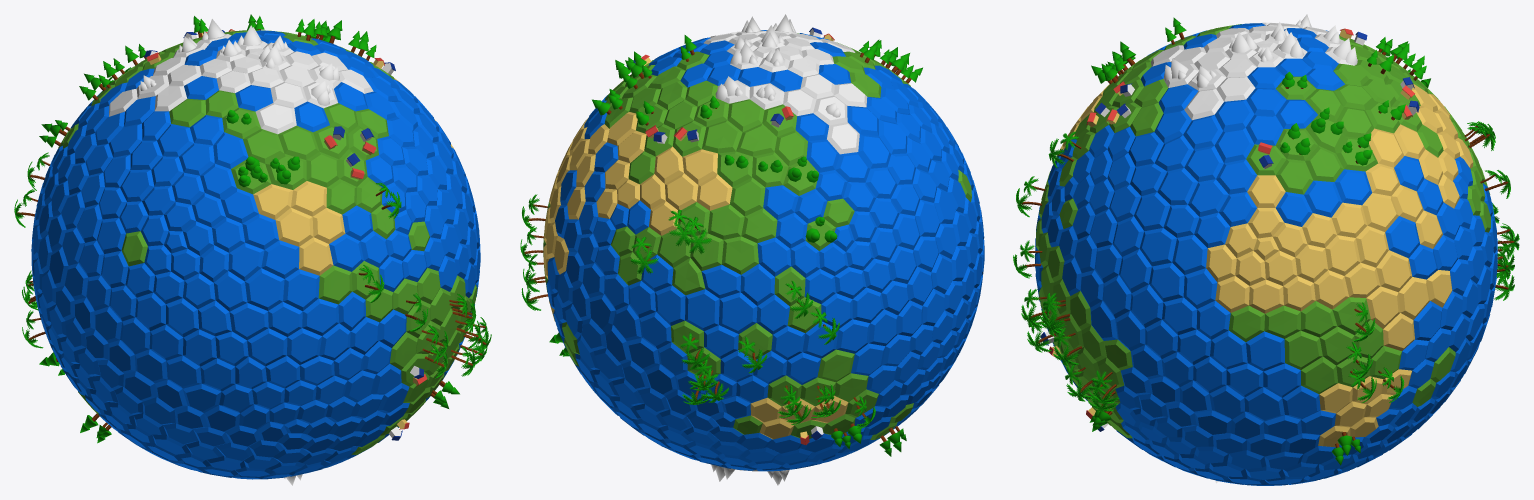
The model's file is hex_earth.fbx.
3 renders of one model, left to right at view 1: azimuth 30°, elevation 25°; view 2: azimuth 150°, elevation 25°; view 3: azimuth 270°, elevation 25°, orthographic. The views are drawn at different scales.
Parts seen in each view (by area): view 1: Earth, Earth Details; view 2: Earth, Earth Details; view 3: Earth, Earth Details.
Part boxes in pixels (x1,y1,x2,y2): Earth: [31, 30, 480, 479]; Earth Details: [14, 14, 491, 485]; Earth: [543, 30, 984, 471]; Earth Details: [520, 14, 922, 485]; Earth: [1035, 22, 1497, 485]; Earth Details: [1013, 14, 1519, 483].
Size of the model in its own units: 739 by 774 by 791.
